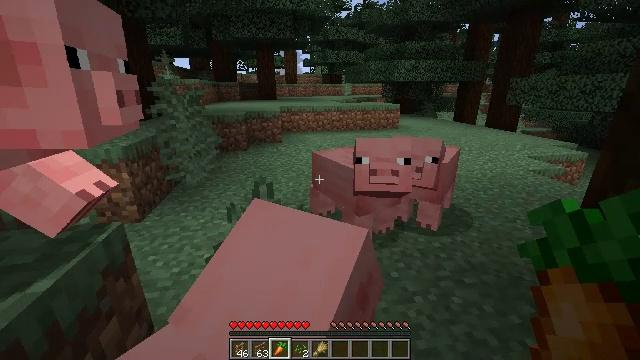pig: (112, 197, 381, 360), (0, 0, 144, 237), (312, 138, 410, 231), (410, 140, 460, 230)
